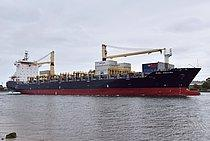Ship: (13, 69, 205, 100)
